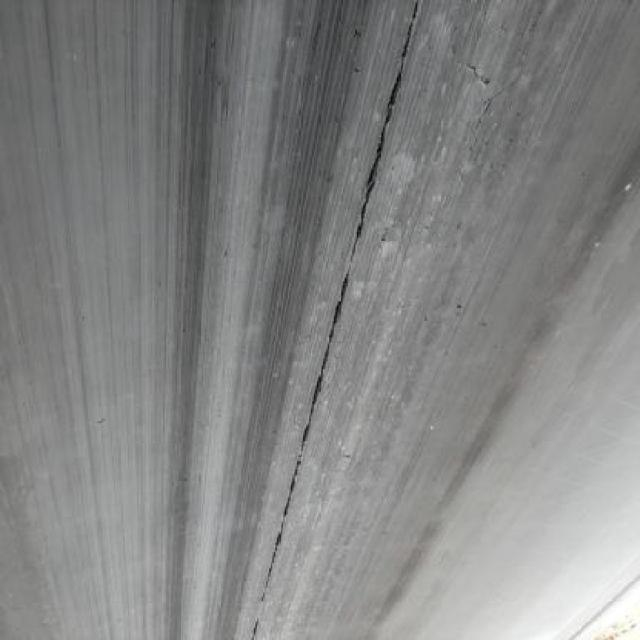Tear: (244, 0, 426, 640)
